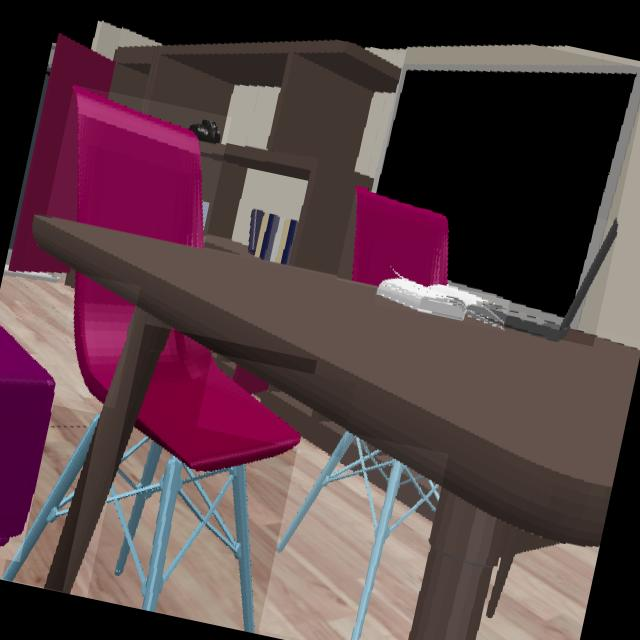book: (375, 278, 504, 326)
bookshelf: (106, 41, 401, 279), (211, 353, 345, 454)
chair: (106, 330, 300, 633), (275, 431, 441, 640), (72, 86, 203, 249), (2, 415, 98, 581), (350, 188, 448, 288), (72, 273, 135, 405)
laptop: (499, 222, 616, 340)
monitor: (375, 67, 640, 313)
sofa: (0, 330, 56, 550)
table: (32, 215, 640, 640)
